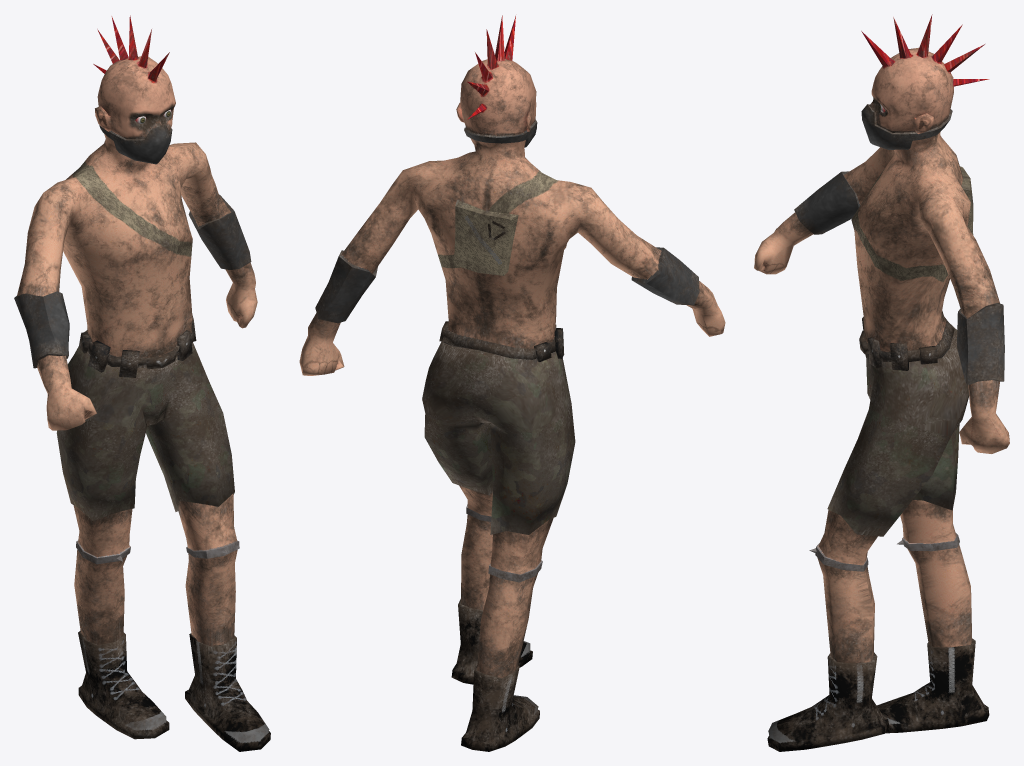
File: Anim_andar_npc2.0031.obj
3 renders of one model, left to right at view 1: azimuth 30°, elevation 25°; view 2: azimuth 150°, elevation 25°; view 3: azimuth 270°, elevation 25°, orthographic. The views are drawn at different scales.
Visible parts, largest first — view 1: Anim_andar_npc2; view 2: Anim_andar_npc2; view 3: Anim_andar_npc2.
Part boxes in pixels (left/top/right/bottom): Anim_andar_npc2: left=14, top=15, right=270, bottom=751; Anim_andar_npc2: left=299, top=15, right=725, bottom=751; Anim_andar_npc2: left=754, top=14, right=1009, bottom=751.
Size of the model in its own units: 4.75 by 10.21 by 3.31.
